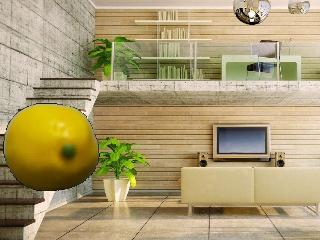lemon: (0, 100, 103, 192)
